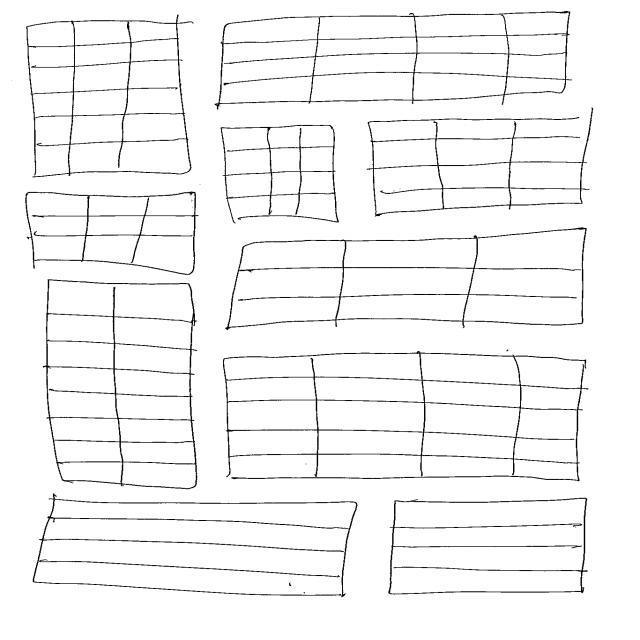table: (221, 351, 588, 484), (223, 227, 591, 332), (29, 497, 361, 602), (217, 10, 574, 107), (44, 280, 196, 491), (25, 18, 193, 180), (366, 116, 593, 218), (386, 496, 591, 599), (23, 191, 201, 277), (219, 125, 343, 226)
